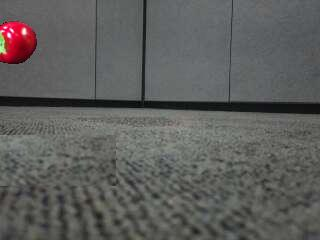Tomato: (0, 21, 37, 64)
